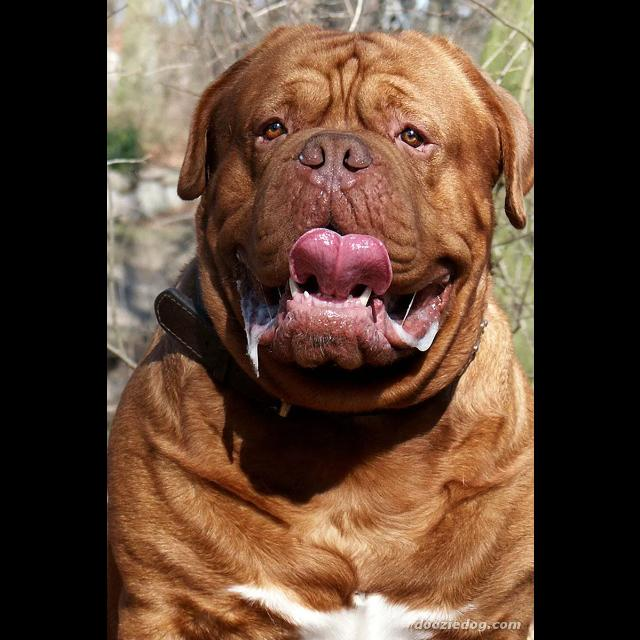dogue_de_bordeaux: (108, 25, 532, 640)
